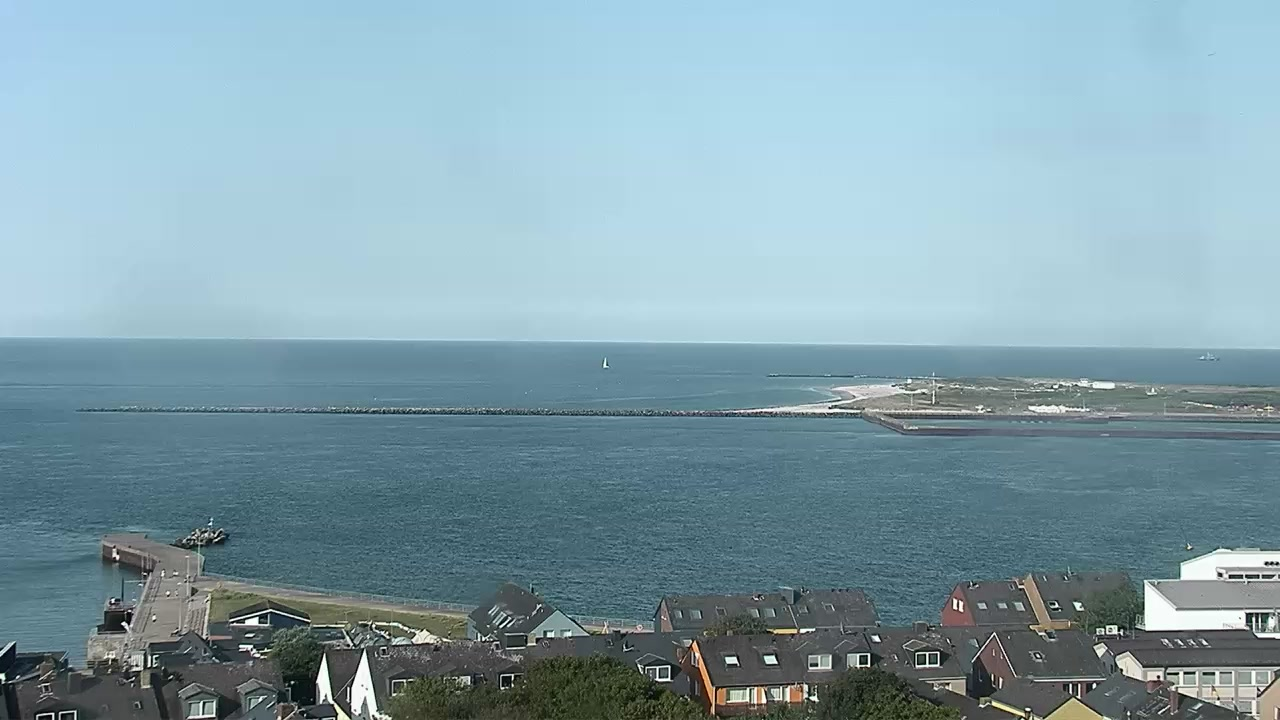human: (602, 618, 609, 633), (150, 612, 157, 625), (171, 568, 179, 577), (164, 588, 171, 598), (160, 567, 167, 577), (173, 587, 179, 598)
sea: (1197, 351, 1219, 361), (1145, 387, 1158, 396), (602, 356, 610, 369)
